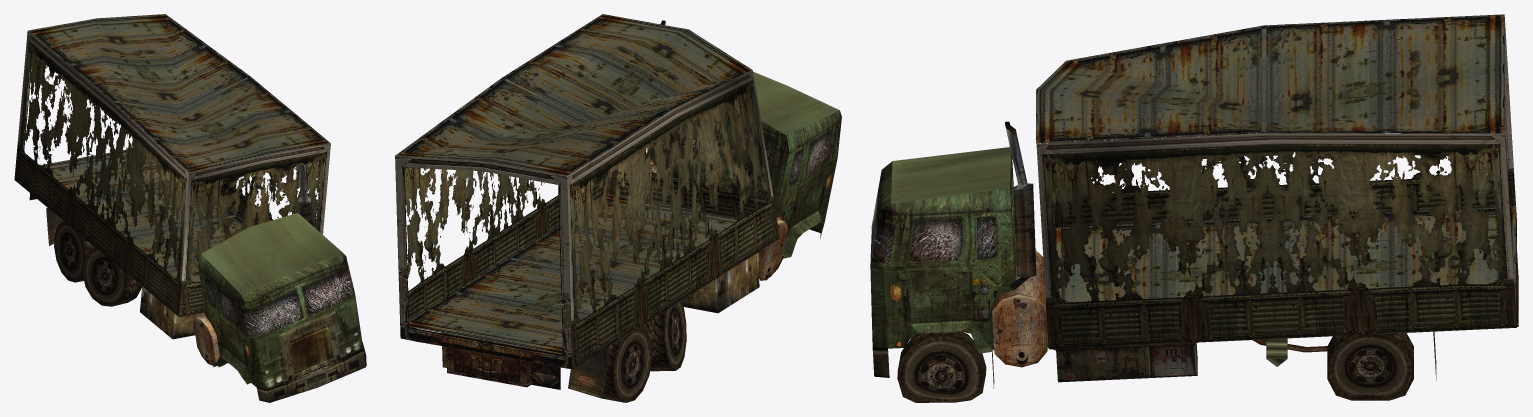
File: Nctrk1hk.glb
3 renders of one model, left to right at view 1: azimuth 30°, elevation 25°; view 2: azimuth 150°, elevation 25°; view 3: azimuth 270°, elevation 25°, orthographic. The views are drawn at different scales.
Parts seen in each view (by area): view 1: _Nctrk1hk; view 2: _Nctrk1hk; view 3: _Nctrk1hk.
Part boxes in pixels (x1,y1,x2,y2): _Nctrk1hk: (14, 14, 366, 402); _Nctrk1hk: (395, 14, 841, 402); _Nctrk1hk: (870, 14, 1518, 402).
Size of the model in its own units: 3.21 by 4.38 by 8.47.
3 materials, 3 textured.
